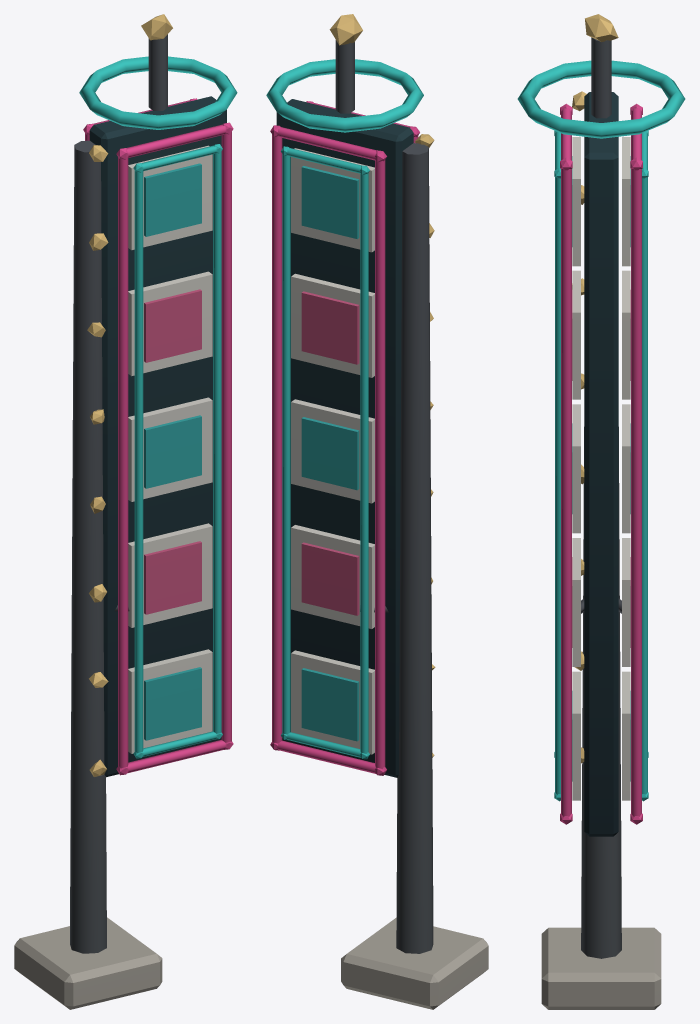
Rendered from hotel-neon-blade.glb.
3 renders of one model, left to right at view 1: azimuth 30°, elevation 25°; view 2: azimuth 150°, elevation 25°; view 3: azimuth 270°, elevation 25°, orthographic. The views are drawn at different scales.
Parts seen in each view (by area): view 1: hotel_neon_blade; view 2: hotel_neon_blade; view 3: hotel_neon_blade.
Boxes of the visible parts, <box> form: hotel_neon_blade: <box>14,14,237,1009</box>; hotel_neon_blade: <box>266,14,488,1009</box>; hotel_neon_blade: <box>517,14,685,1009</box>.
Size of the model in its own units: 1.34 by 6.48 by 0.98.
